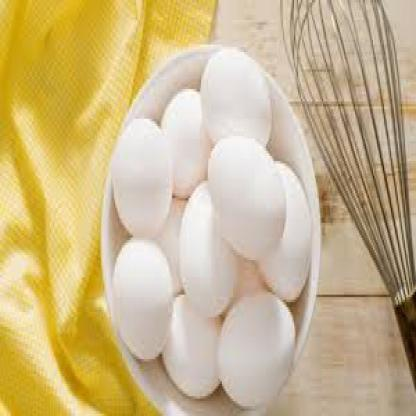egg: (206, 135, 289, 264), (217, 286, 296, 410), (178, 183, 244, 320), (254, 154, 314, 304), (111, 113, 174, 243), (112, 235, 174, 364), (199, 46, 273, 151), (162, 290, 228, 402), (160, 86, 216, 202)
